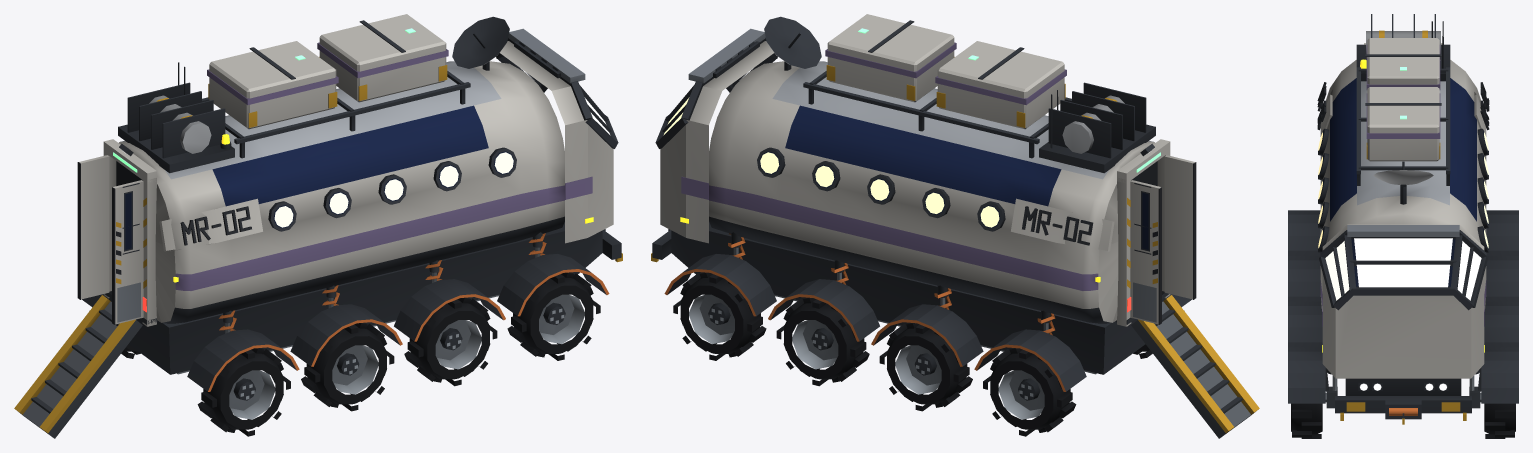
File: vehicle_rover_medium.glb
3 renders of one model, left to right at view 1: azimuth 30°, elevation 25°; view 2: azimuth 150°, elevation 25°; view 3: azimuth 270°, elevation 25°, orthographic. The views are drawn at different scales.
Parts seen in each view (by area): view 1: Body, Cargo, Ramp, Wheel_2R, Wheel_3R, Wheel_1R, Wheel_4R, Door_HatchL, Door_HatchR, Susp_3R, Susp_2R, Steer_1R (+2 smaller); view 2: Body, Cargo, Ramp, Wheel_2L, Wheel_3L, Wheel_1L, Wheel_4L, Door_HatchR, Door_HatchL, Susp_3L, Susp_2L, Steer_1L (+2 smaller); view 3: Body, Cargo, Lights, Steer_1L, Steer_1R, Susp_2L, Susp_2R, Susp_3L, Susp_3R, Steer_4L, Steer_4R, Wheel_1L (+1 smaller).
Boxes of the visible parts, bbox=[...] form: Body: bbox=[103, 16, 622, 374]; Cargo: bbox=[207, 14, 448, 129]; Ramp: bbox=[14, 295, 142, 438]; Wheel_2R: bbox=[404, 297, 497, 386]; Wheel_3R: bbox=[301, 322, 394, 411]; Wheel_1R: bbox=[507, 272, 600, 360]; Wheel_4R: bbox=[197, 348, 290, 436]; Door_HatchL: bbox=[77, 155, 109, 299]; Door_HatchR: bbox=[112, 180, 143, 324]; Susp_3R: bbox=[290, 285, 402, 366]; Susp_2R: bbox=[394, 260, 505, 341]; Steer_1R: bbox=[497, 254, 609, 316]; Body: bbox=[651, 16, 1170, 374]; Cargo: bbox=[825, 14, 1066, 129]; Ramp: bbox=[1131, 295, 1259, 438]; Wheel_2L: bbox=[776, 297, 869, 386]; Wheel_3L: bbox=[879, 322, 972, 411]; Wheel_1L: bbox=[673, 272, 766, 360]; Wheel_4L: bbox=[983, 348, 1076, 436]; Door_HatchR: bbox=[1164, 155, 1196, 299]; Door_HatchL: bbox=[1130, 180, 1161, 324]; Susp_3L: bbox=[871, 288, 983, 366]; Susp_2L: bbox=[768, 263, 879, 341]; Steer_1L: bbox=[664, 254, 776, 316]; Body: bbox=[1317, 14, 1489, 424]; Cargo: bbox=[1365, 38, 1441, 161]; Lights: bbox=[1318, 132, 1488, 390]; Steer_1L: bbox=[1469, 347, 1518, 408]; Steer_1R: bbox=[1288, 347, 1337, 408]; Susp_2L: bbox=[1484, 301, 1518, 347]; Susp_2R: bbox=[1288, 301, 1322, 347]; Susp_3L: bbox=[1485, 256, 1518, 301]; Susp_3R: bbox=[1288, 256, 1321, 301]; Steer_4L: bbox=[1486, 210, 1518, 255]; Steer_4R: bbox=[1288, 210, 1320, 255]; Wheel_1L: bbox=[1484, 403, 1515, 438].
Bounding box in the file's own units: 8.34 × 4.3 × 3.2.
